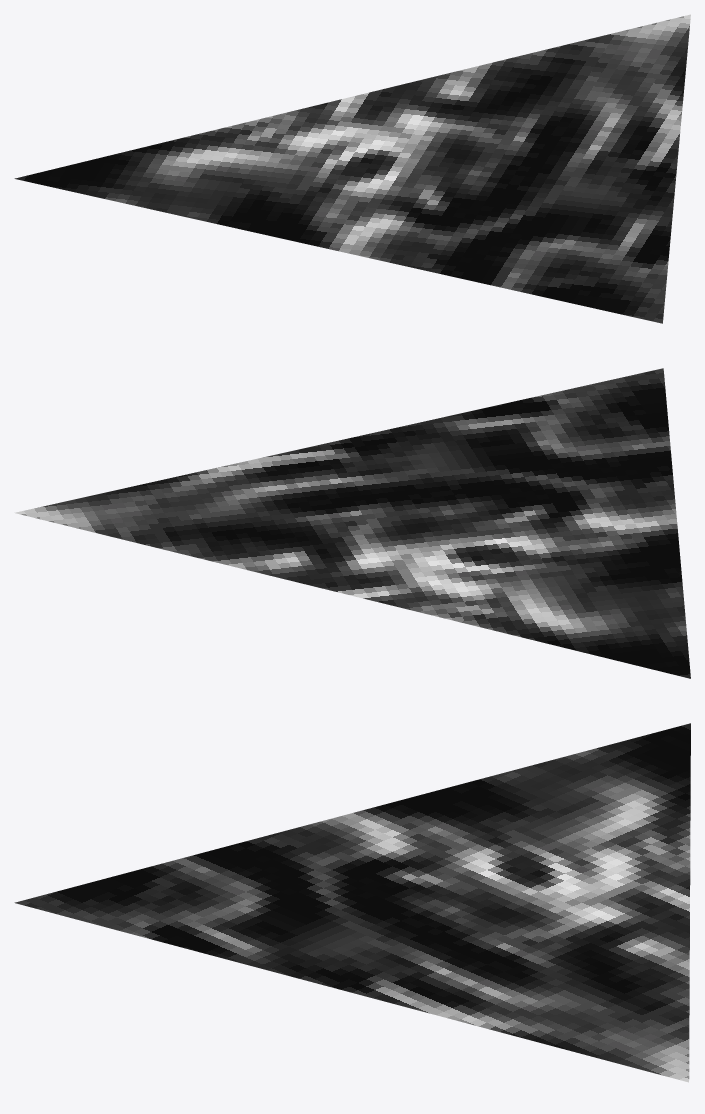
File: SkinShell.glb
3 views of the same model, one above another, from view 1: azimuth 30°, elevation 25°; view 2: azimuth 150°, elevation 25°; view 3: azimuth 270°, elevation 25° (orthographic). The views are drawn at different scales.
Visible parts, largest first — view 1: model_SkinShell; view 2: model_SkinShell; view 3: model_SkinShell.
Boxes of the visible parts, x1,y1,x2,y2 form: model_SkinShell: (14,14,690,323); model_SkinShell: (14,368,690,678); model_SkinShell: (14,723,690,1082).
Bounding box in the file's own units: 0.4239 × 0.00947 × 0.3374.
1 material, 1 textured.
